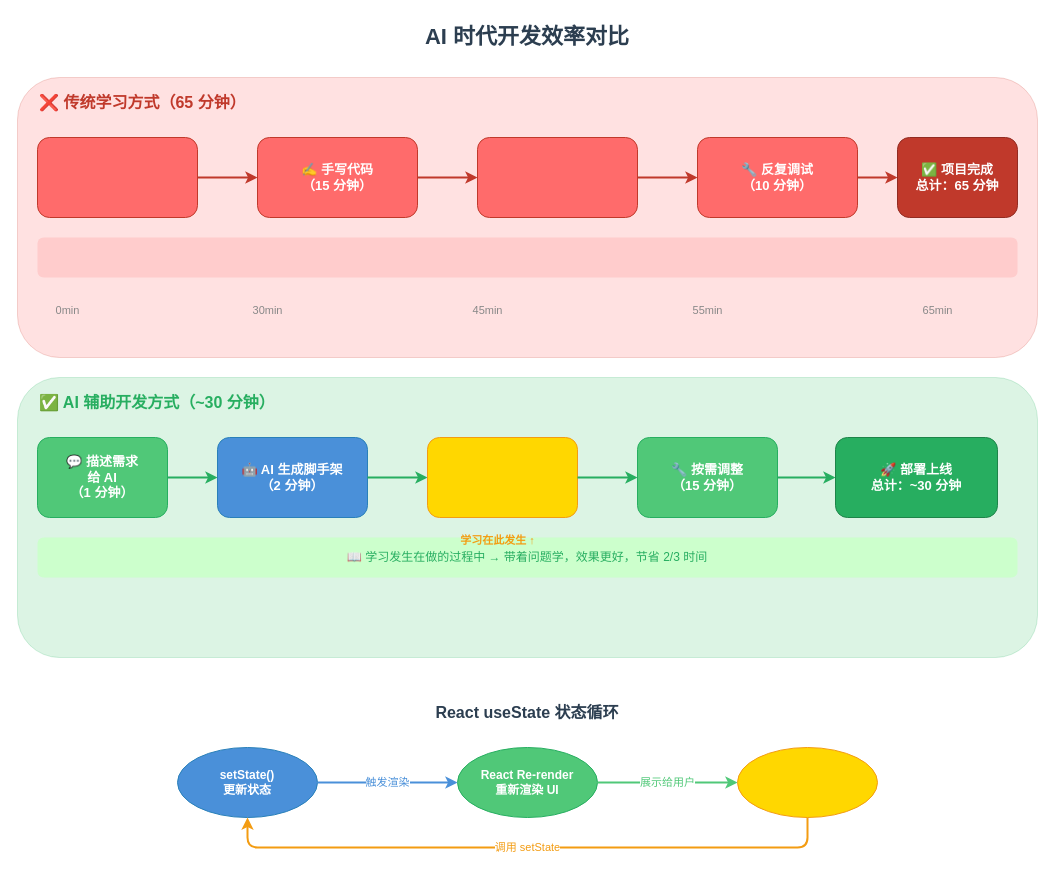
This 1055x873 diagram has some shape labels left out. Here are the shapes that lost their labels. From the top down, the box of each, then its label:
(36, 136, 198, 218): 📚 查阅文档 （30 分钟）
(476, 136, 638, 218): 🐛 遇到错误 查 StackOverflow （10 分钟）
(37, 237, 1017, 277): 📖 学习发生在做之前 → 需要先掌握大量知识才能开始编码
(426, 436, 578, 518): 📖 理解核心概念 （边做边学） （10 分钟）
(736, 746, 878, 818): 用户交互事件 （click / input）
